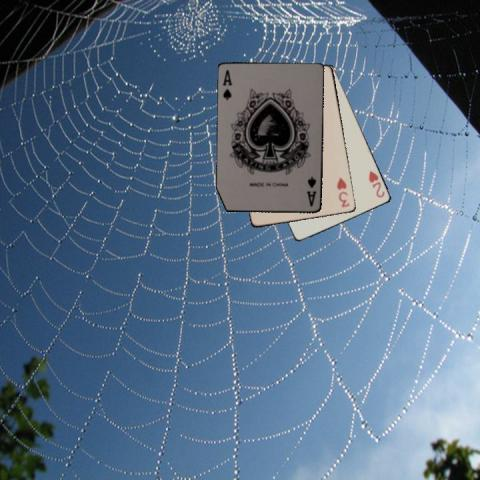2h: (366, 168, 387, 199)
3h: (334, 175, 351, 208)
As: (304, 174, 318, 208), (220, 68, 234, 102)
